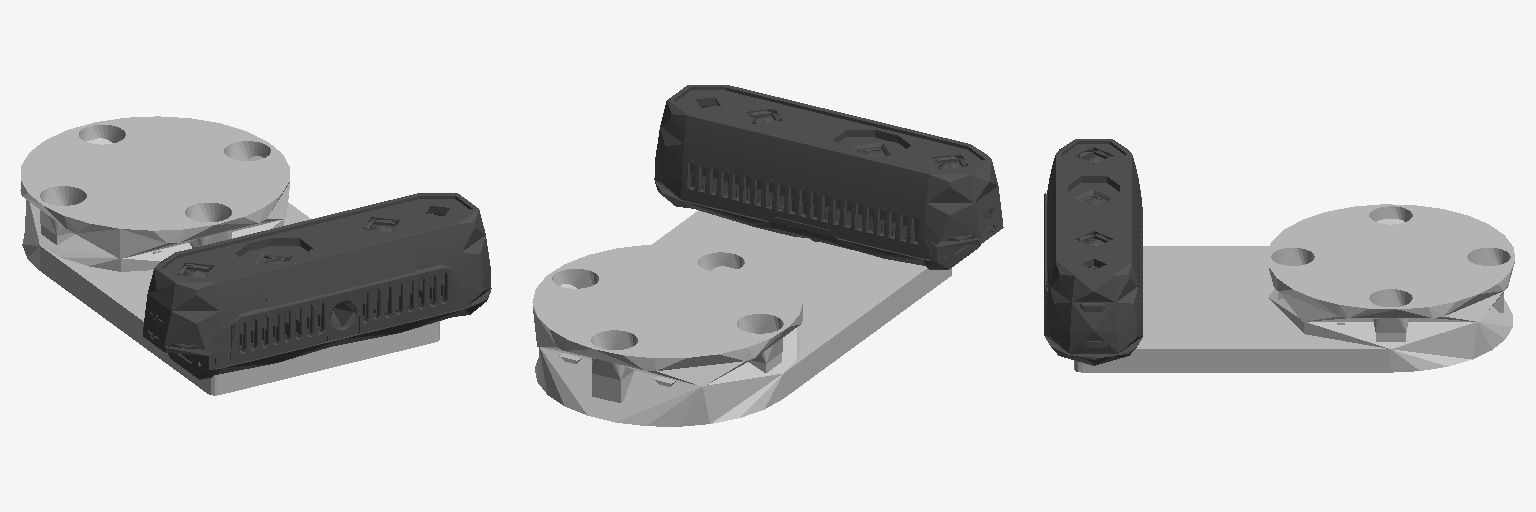
The robot description file, URDF, robot "fifi":
<?xml version="1.0" ?>
<robot name="fifi" version="1.0">
  <joint name="base_mount" type="fixed">
    <origin xyz="-2.676672236193239e-16 0.0 0.017800000000000274" rpy="5.1754001796080614e-17 -6.818526456665028e-17 -2.326374403664247e-47"/>
    <axis xyz="0 0 1"/>
    <parent link="base"/>
    <child link="mount"/>
    <limit effort="1000" lower="-1.548" upper="1.548" velocity="0.5"/>
  </joint>
  <joint name="base_camera" type="fixed">
    <origin xyz="-0.011499999999996884 -0.07499999999999143 0.02870900292595909" rpy="1.905318798742255e-16 -1.6653345369377368e-16 -2.7357238018191703e-32"/>
    <axis xyz="0 0 1"/>
    <parent link="base"/>
    <child link="camera"/>
    <limit effort="1000" lower="-1.548" upper="1.548" velocity="0.5"/>
  </joint>
  <link name="mount"/>
  <link name="base">
    <visual>
      <origin xyz="-2.7141741317048967e-16 -0.075 0.07280000000000027" rpy="5.1754001796080614e-17 -6.818526456665028e-17 -2.326374403664247e-47"/>
      <geometry>
        <mesh filename="package://test_rospkg/meshes/claw_mount/FRONT_COVER_ALUMINUM_AWG_W_RGB_0.stl"/>
      </geometry>
      <material name="color0">
        <color rgba="0.35153260827064514 0.35153260827064514 0.35153260827064514 1"/>
      </material>
    </visual>
    <visual>
      <origin xyz="-2.7141741317048967e-16 -0.075 0.07280000000000027" rpy="5.1754001796080614e-17 -6.818526456665028e-17 -2.326374403664247e-47"/>
      <geometry>
        <mesh filename="package://test_rospkg/meshes/claw_mount/MASK_LENS_AWG_RGB_430.stl"/>
      </geometry>
      <material name="color0">
        <color rgba="0.35153260827064514 0.35153260827064514 0.35153260827064514 1"/>
      </material>
    </visual>
    <visual>
      <origin xyz="-2.7141741317048967e-16 -0.075 0.07280000000000027" rpy="5.1754001796080614e-17 -6.818526456665028e-17 -2.326374403664247e-47"/>
      <geometry>
        <mesh filename="package://test_rospkg/meshes/claw_mount/ADHESIVE_LENS_AWG_RGB_230.stl"/>
      </geometry>
      <material name="color0">
        <color rgba="0.35153260827064514 0.35153260827064514 0.35153260827064514 1"/>
      </material>
    </visual>
    <visual>
      <origin xyz="-2.7141741317048967e-16 -0.075 0.07280000000000027" rpy="5.1754001796080614e-17 -6.818526456665028e-17 -2.326374403664247e-47"/>
      <geometry>
        <mesh filename="package://test_rospkg/meshes/claw_mount/AWG_FOAM_FRONT_BEZEL_RIGHT_490.stl"/>
      </geometry>
      <material name="color0">
        <color rgba="0.35153260827064514 0.35153260827064514 0.35153260827064514 1"/>
      </material>
    </visual>
    <visual>
      <origin xyz="-2.7141741317048967e-16 -0.075 0.07280000000000027" rpy="5.1754001796080614e-17 -6.818526456665028e-17 -2.326374403664247e-47"/>
      <geometry>
        <mesh filename="package://test_rospkg/meshes/claw_mount/AWG_ADHESIVE_FRONT_BEZEL_1_180.stl"/>
      </geometry>
      <material name="color0">
        <color rgba="0.35153260827064514 0.35153260827064514 0.35153260827064514 1"/>
      </material>
    </visual>
    <visual>
      <origin xyz="-2.7141741317048967e-16 -0.075 0.07280000000000027" rpy="5.1754001796080614e-17 -6.818526456665028e-17 -2.326374403664247e-47"/>
      <geometry>
        <mesh filename="package://test_rospkg/meshes/claw_mount/AWG_STIFFENER_FRONT_BEZEL_1_180.stl"/>
      </geometry>
      <material name="color0">
        <color rgba="0.35153260827064514 0.35153260827064514 0.35153260827064514 1"/>
      </material>
    </visual>
    <visual>
      <origin xyz="-2.7141741317048967e-16 -0.075 0.07280000000000027" rpy="5.1754001796080614e-17 -6.818526456665028e-17 -2.326374403664247e-47"/>
      <geometry>
        <mesh filename="package://test_rospkg/meshes/claw_mount/AWG_ADHESIVE_FRONT_BEZEL_1_181.stl"/>
      </geometry>
      <material name="color0">
        <color rgba="0.35153260827064514 0.35153260827064514 0.35153260827064514 1"/>
      </material>
    </visual>
    <visual>
      <origin xyz="-2.7141741317048967e-16 -0.075 0.07280000000000027" rpy="5.1754001796080614e-17 -6.818526456665028e-17 -2.326374403664247e-47"/>
      <geometry>
        <mesh filename="package://test_rospkg/meshes/claw_mount/MODULE_CAMERA_DS5_AWG_RGB_60.stl"/>
      </geometry>
      <material name="color0">
        <color rgba="0.35153260827064514 0.35153260827064514 0.35153260827064514 1"/>
      </material>
    </visual>
    <visual>
      <origin xyz="-2.7141741317048967e-16 -0.075 0.07280000000000027" rpy="5.1754001796080614e-17 -6.818526456665028e-17 -2.326374403664247e-47"/>
      <geometry>
        <mesh filename="package://test_rospkg/meshes/claw_mount/20709-050E_RECE_ASSY_30.stl"/>
      </geometry>
      <material name="color0">
        <color rgba="0.35153260827064514 0.35153260827064514 0.35153260827064514 1"/>
      </material>
    </visual>
    <visual>
      <origin xyz="-2.7141741317048967e-16 -0.075 0.07280000000000027" rpy="5.1754001796080614e-17 -6.818526456665028e-17 -2.326374403664247e-47"/>
      <geometry>
        <mesh filename="package://test_rospkg/meshes/claw_mount/B2B_BRACKET_AWG_W_RGB_10.stl"/>
      </geometry>
      <material name="color0">
        <color rgba="0.35153260827064514 0.35153260827064514 0.35153260827064514 1"/>
      </material>
    </visual>
    <visual>
      <origin xyz="-2.7141741317048967e-16 -0.075 0.07280000000000027" rpy="5.1754001796080614e-17 -6.818526456665028e-17 -2.326374403664247e-47"/>
      <geometry>
        <mesh filename="package://test_rospkg/meshes/claw_mount/LABEL_CAMERA_DS5_AWG_360.stl"/>
      </geometry>
      <material name="color0">
        <color rgba="0.35153260827064514 0.35153260827064514 0.35153260827064514 1"/>
      </material>
    </visual>
    <visual>
      <origin xyz="-2.7141741317048967e-16 -0.075 0.07280000000000027" rpy="5.1754001796080614e-17 -6.818526456665028e-17 -2.326374403664247e-47"/>
      <geometry>
        <mesh filename="package://test_rospkg/meshes/claw_mount/ADHESIVE_LABEL_CAMERA_DS5_AWG_20.stl"/>
      </geometry>
      <material name="color0">
        <color rgba="0.35153260827064514 0.35153260827064514 0.35153260827064514 1"/>
      </material>
    </visual>
    <visual>
      <origin xyz="-2.7141741317048967e-16 -0.075 0.07280000000000027" rpy="5.1754001796080614e-17 -6.818526456665028e-17 -2.326374403664247e-47"/>
      <geometry>
        <mesh filename="package://test_rospkg/meshes/claw_mount/AWG_RGB_CAMERA_MERGED_50.stl"/>
      </geometry>
      <material name="color0">
        <color rgba="0.35153260827064514 0.35153260827064514 0.35153260827064514 1"/>
      </material>
    </visual>
    <visual>
      <origin xyz="-2.7141741317048967e-16 -0.075 0.07280000000000027" rpy="5.1754001796080614e-17 -6.818526456665028e-17 -2.326374403664247e-47"/>
      <geometry>
        <mesh filename="package://test_rospkg/meshes/claw_mount/AWG_RGB_CAMERA_50.stl"/>
      </geometry>
      <material name="color0">
        <color rgba="0.35153260827064514 0.35153260827064514 0.35153260827064514 1"/>
      </material>
    </visual>
    <visual>
      <origin xyz="-2.7141741317048967e-16 -0.075 0.07280000000000027" rpy="5.1754001796080614e-17 -6.818526456665028e-17 -2.326374403664247e-47"/>
      <geometry>
        <mesh filename="package://test_rospkg/meshes/claw_mount/AWG_RGB_CAMERA_BOARD_220.stl"/>
      </geometry>
      <material name="color0">
        <color rgba="0.35153260827064514 0.35153260827064514 0.35153260827064514 1"/>
      </material>
    </visual>
    <visual>
      <origin xyz="-2.7141741317048967e-16 -0.075 0.07280000000000027" rpy="5.1754001796080614e-17 -6.818526456665028e-17 -2.326374403664247e-47"/>
      <geometry>
        <mesh filename="package://test_rospkg/meshes/claw_mount/AWG_RGB_CAMERA_FLEX_SHEETMETAL_0.stl"/>
      </geometry>
      <material name="color0">
        <color rgba="0.35153260827064514 0.35153260827064514 0.35153260827064514 1"/>
      </material>
    </visual>
    <visual>
      <origin xyz="-2.7141741317048967e-16 -0.075 0.07280000000000027" rpy="5.1754001796080614e-17 -6.818526456665028e-17 -2.326374403664247e-47"/>
      <geometry>
        <mesh filename="package://test_rospkg/meshes/claw_mount/BRACKET_RGB_MODULE_AWG_W_RGB_460.stl"/>
      </geometry>
      <material name="color0">
        <color rgba="0.35153260827064514 0.35153260827064514 0.35153260827064514 1"/>
      </material>
    </visual>
    <visual>
      <origin xyz="-2.7141741317048967e-16 -0.075 0.07280000000000027" rpy="5.1754001796080614e-17 -6.818526456665028e-17 -2.326374403664247e-47"/>
      <geometry>
        <mesh filename="package://test_rospkg/meshes/claw_mount/HEATSINK_AWG_W_RGB_240.stl"/>
      </geometry>
      <material name="color0">
        <color rgba="0.35153260827064514 0.35153260827064514 0.35153260827064514 1"/>
      </material>
    </visual>
    <visual>
      <origin xyz="-2.7141741317048967e-16 -0.075 0.07280000000000027" rpy="5.1754001796080614e-17 -6.818526456665028e-17 -2.326374403664247e-47"/>
      <geometry>
        <mesh filename="package://test_rospkg/meshes/claw_mount/PASTE_THERMAL_IR_AWG_W_RGB_70.stl"/>
      </geometry>
      <material name="color0">
        <color rgba="0.35153260827064514 0.35153260827064514 0.35153260827064514 1"/>
      </material>
    </visual>
    <visual>
      <origin xyz="-2.7141741317048967e-16 -0.075 0.07280000000000027" rpy="5.1754001796080614e-17 -6.818526456665028e-17 -2.326374403664247e-47"/>
      <geometry>
        <mesh filename="package://test_rospkg/meshes/claw_mount/SCREW_M1-6_4L_40.stl"/>
      </geometry>
      <material name="color0">
        <color rgba="0.35153260827064514 0.35153260827064514 0.35153260827064514 1"/>
      </material>
    </visual>
    <visual>
      <origin xyz="-2.7141741317048967e-16 -0.075 0.07280000000000027" rpy="5.1754001796080614e-17 -6.818526456665028e-17 -2.326374403664247e-47"/>
      <geometry>
        <mesh filename="package://test_rospkg/meshes/claw_mount/SCREW_M1-6_4L_41.stl"/>
      </geometry>
      <material name="color0">
        <color rgba="0.35153260827064514 0.35153260827064514 0.35153260827064514 1"/>
      </material>
    </visual>
    <visual>
      <origin xyz="-2.7141741317048967e-16 -0.075 0.07280000000000027" rpy="5.1754001796080614e-17 -6.818526456665028e-17 -2.326374403664247e-47"/>
      <geometry>
        <mesh filename="package://test_rospkg/meshes/claw_mount/SCREW_M1-6_4L_42.stl"/>
      </geometry>
      <material name="color0">
        <color rgba="0.35153260827064514 0.35153260827064514 0.35153260827064514 1"/>
      </material>
    </visual>
    <visual>
      <origin xyz="-2.7141741317048967e-16 -0.075 0.07280000000000027" rpy="5.1754001796080614e-17 -6.818526456665028e-17 -2.326374403664247e-47"/>
      <geometry>
        <mesh filename="package://test_rospkg/meshes/claw_mount/SCREW_M1-6_4L_43.stl"/>
      </geometry>
      <material name="color0">
        <color rgba="0.35153260827064514 0.35153260827064514 0.35153260827064514 1"/>
      </material>
    </visual>
    <visual>
      <origin xyz="-2.7141741317048967e-16 -0.075 0.07280000000000027" rpy="5.1754001796080614e-17 -6.818526456665028e-17 -2.326374403664247e-47"/>
      <geometry>
        <mesh filename="package://test_rospkg/meshes/claw_mount/AWG_ASIC_FLEX_330.stl"/>
      </geometry>
      <material name="color0">
        <color rgba="0.35153260827064514 0.35153260827064514 0.35153260827064514 1"/>
      </material>
    </visual>
    <visual>
      <origin xyz="-2.7141741317048967e-16 -0.075 0.07280000000000027" rpy="5.1754001796080614e-17 -6.818526456665028e-17 -2.326374403664247e-47"/>
      <geometry>
        <mesh filename="package://test_rospkg/meshes/claw_mount/AWG_ASIC_BACKER_1_770.stl"/>
      </geometry>
      <material name="color0">
        <color rgba="0.35153260827064514 0.35153260827064514 0.35153260827064514 1"/>
      </material>
    </visual>
    <visual>
      <origin xyz="-2.7141741317048967e-16 -0.075 0.07280000000000027" rpy="5.1754001796080614e-17 -6.818526456665028e-17 -2.326374403664247e-47"/>
      <geometry>
        <mesh filename="package://test_rospkg/meshes/claw_mount/ID_50_PIN_20709-050EC_PAD_40.stl"/>
      </geometry>
      <material name="color0">
        <color rgba="0.35153260827064514 0.35153260827064514 0.35153260827064514 1"/>
      </material>
    </visual>
    <visual>
      <origin xyz="-2.7141741317048967e-16 -0.075 0.07280000000000027" rpy="5.1754001796080614e-17 -6.818526456665028e-17 -2.326374403664247e-47"/>
      <geometry>
        <mesh filename="package://test_rospkg/meshes/claw_mount/AWG_ASIC_BACKER_2_840.stl"/>
      </geometry>
      <material name="color0">
        <color rgba="0.35153260827064514 0.35153260827064514 0.35153260827064514 1"/>
      </material>
    </visual>
    <visual>
      <origin xyz="-2.7141741317048967e-16 -0.075 0.07280000000000027" rpy="5.1754001796080614e-17 -6.818526456665028e-17 -2.326374403664247e-47"/>
      <geometry>
        <mesh filename="package://test_rospkg/meshes/claw_mount/20708-050E_PLUG_ASSY_30.stl"/>
      </geometry>
      <material name="color0">
        <color rgba="0.35153260827064514 0.35153260827064514 0.35153260827064514 1"/>
      </material>
    </visual>
    <visual>
      <origin xyz="-2.7141741317048967e-16 -0.075 0.07280000000000027" rpy="5.1754001796080614e-17 -6.818526456665028e-17 -2.326374403664247e-47"/>
      <geometry>
        <mesh filename="package://test_rospkg/meshes/claw_mount/REAR_COVER_ALUMINUM_AWG_RGB_1210.stl"/>
      </geometry>
      <material name="color0">
        <color rgba="0.35153260827064514 0.35153260827064514 0.35153260827064514 1"/>
      </material>
    </visual>
    <visual>
      <origin xyz="-2.7141741317048967e-16 -0.075 0.07280000000000027" rpy="5.1754001796080614e-17 -6.818526456665028e-17 -2.326374403664247e-47"/>
      <geometry>
        <mesh filename="package://test_rospkg/meshes/claw_mount/MAGNET_90.stl"/>
      </geometry>
      <material name="color0">
        <color rgba="0.35153260827064514 0.35153260827064514 0.35153260827064514 1"/>
      </material>
    </visual>
    <visual>
      <origin xyz="-2.7141741317048967e-16 -0.075 0.07280000000000027" rpy="5.1754001796080614e-17 -6.818526456665028e-17 -2.326374403664247e-47"/>
      <geometry>
        <mesh filename="package://test_rospkg/meshes/claw_mount/MAGNET_91.stl"/>
      </geometry>
      <material name="color0">
        <color rgba="0.35153260827064514 0.35153260827064514 0.35153260827064514 1"/>
      </material>
    </visual>
    <visual>
      <origin xyz="-2.7141741317048967e-16 -0.075 0.07280000000000027" rpy="5.1754001796080614e-17 -6.818526456665028e-17 -2.326374403664247e-47"/>
      <geometry>
        <mesh filename="package://test_rospkg/meshes/claw_mount/SCREW_TORX_M2_X_5L_60.stl"/>
      </geometry>
      <material name="color0">
        <color rgba="0.35153260827064514 0.35153260827064514 0.35153260827064514 1"/>
      </material>
    </visual>
    <visual>
      <origin xyz="-2.7141741317048967e-16 -0.075 0.07280000000000027" rpy="5.1754001796080614e-17 -6.818526456665028e-17 -2.326374403664247e-47"/>
      <geometry>
        <mesh filename="package://test_rospkg/meshes/claw_mount/SCREW_TORX_M2_X_5L_61.stl"/>
      </geometry>
      <material name="color0">
        <color rgba="0.35153260827064514 0.35153260827064514 0.35153260827064514 1"/>
      </material>
    </visual>
    <visual>
      <origin xyz="-2.7141741317048967e-16 -0.075 0.07280000000000027" rpy="5.1754001796080614e-17 -6.818526456665028e-17 -2.326374403664247e-47"/>
      <geometry>
        <mesh filename="package://test_rospkg/meshes/claw_mount/AUX_COVER_ALUMINUM_AWG_W_RGB_610.stl"/>
      </geometry>
      <material name="color0">
        <color rgba="0.35153260827064514 0.35153260827064514 0.35153260827064514 1"/>
      </material>
    </visual>
    <visual>
      <origin xyz="-2.7141741317048967e-16 -0.075 0.07280000000000027" rpy="5.1754001796080614e-17 -6.818526456665028e-17 -2.326374403664247e-47"/>
      <geometry>
        <mesh filename="package://test_rospkg/meshes/claw_mount/PIN_STEEL_ZINC_PLATED_110.stl"/>
      </geometry>
      <material name="color0">
        <color rgba="0.35153260827064514 0.35153260827064514 0.35153260827064514 1"/>
      </material>
    </visual>
    <visual>
      <origin xyz="-2.7141741317048967e-16 -0.075 0.07280000000000027" rpy="5.1754001796080614e-17 -6.818526456665028e-17 -2.326374403664247e-47"/>
      <geometry>
        <mesh filename="package://test_rospkg/meshes/claw_mount/PIN_STEEL_ZINC_PLATED_111.stl"/>
      </geometry>
      <material name="color0">
        <color rgba="0.35153260827064514 0.35153260827064514 0.35153260827064514 1"/>
      </material>
    </visual>
    <visual>
      <origin xyz="-2.7141741317048967e-16 -0.075 0.07280000000000027" rpy="5.1754001796080614e-17 -6.818526456665028e-17 -2.326374403664247e-47"/>
      <geometry>
        <mesh filename="package://test_rospkg/meshes/claw_mount/BARCODE_AWG_80.stl"/>
      </geometry>
      <material name="color0">
        <color rgba="0.35153260827064514 0.35153260827064514 0.35153260827064514 1"/>
      </material>
    </visual>
    <visual>
      <origin xyz="-2.7141741317048967e-16 -0.075 0.07280000000000027" rpy="5.1754001796080614e-17 -6.818526456665028e-17 -2.326374403664247e-47"/>
      <geometry>
        <mesh filename="package://test_rospkg/meshes/claw_mount/Component440.stl"/>
      </geometry>
      <material name="color1">
        <color rgba="0.7991027235984802 0.7991027235984802 0.7991027235984802 1"/>
      </material>
    </visual>
  </link>
  <link name="camera"/>
</robot>

--- What the picture shows (computed from the rendered views, not written in the file) ---
The picture shows the robot from 3 angles, left to right: view 1: azimuth 30°, elevation 25°; view 2: azimuth 150°, elevation 25°; view 3: azimuth 270°, elevation 25°; orthographic projection.
Model fifi with 3 links and 2 joints (2 fixed), rooted at base, posed every joint at zero.
Visible links, largest first — view 1: base; view 2: base; view 3: base.
Link boxes in pixels (<box>): base: <box>20,116,491,395</box>; base: <box>532,85,1003,426</box>; base: <box>1044,139,1514,372</box>.
Size in the robot's own frame: 0.089 by 0.1189 by 0.0316 metres.
Meshes: 38 distinct files referenced, 38 mesh visuals loaded (2 binary STL, 36 ASCII STL).
